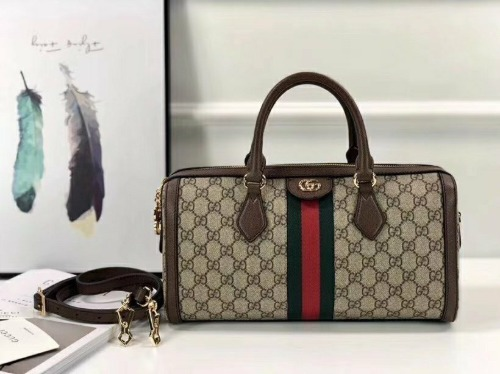Gucci: (150, 155, 492, 344), (275, 171, 346, 335), (383, 198, 428, 317), (292, 171, 322, 208)
